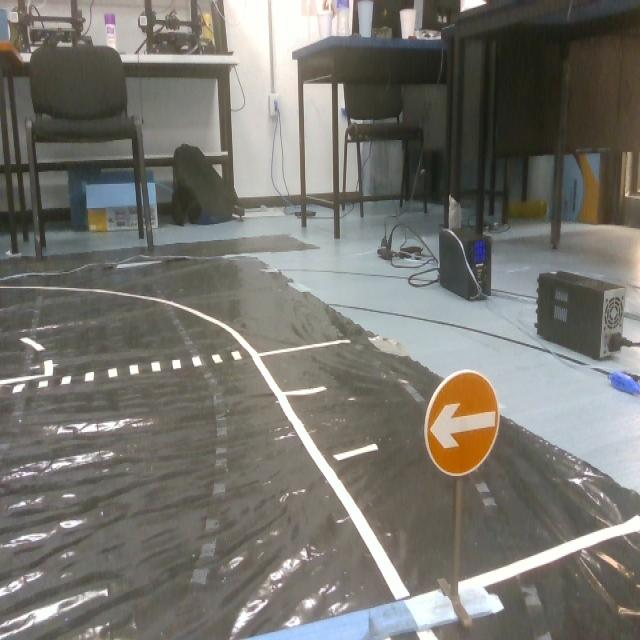forward: (429, 369, 504, 483)
